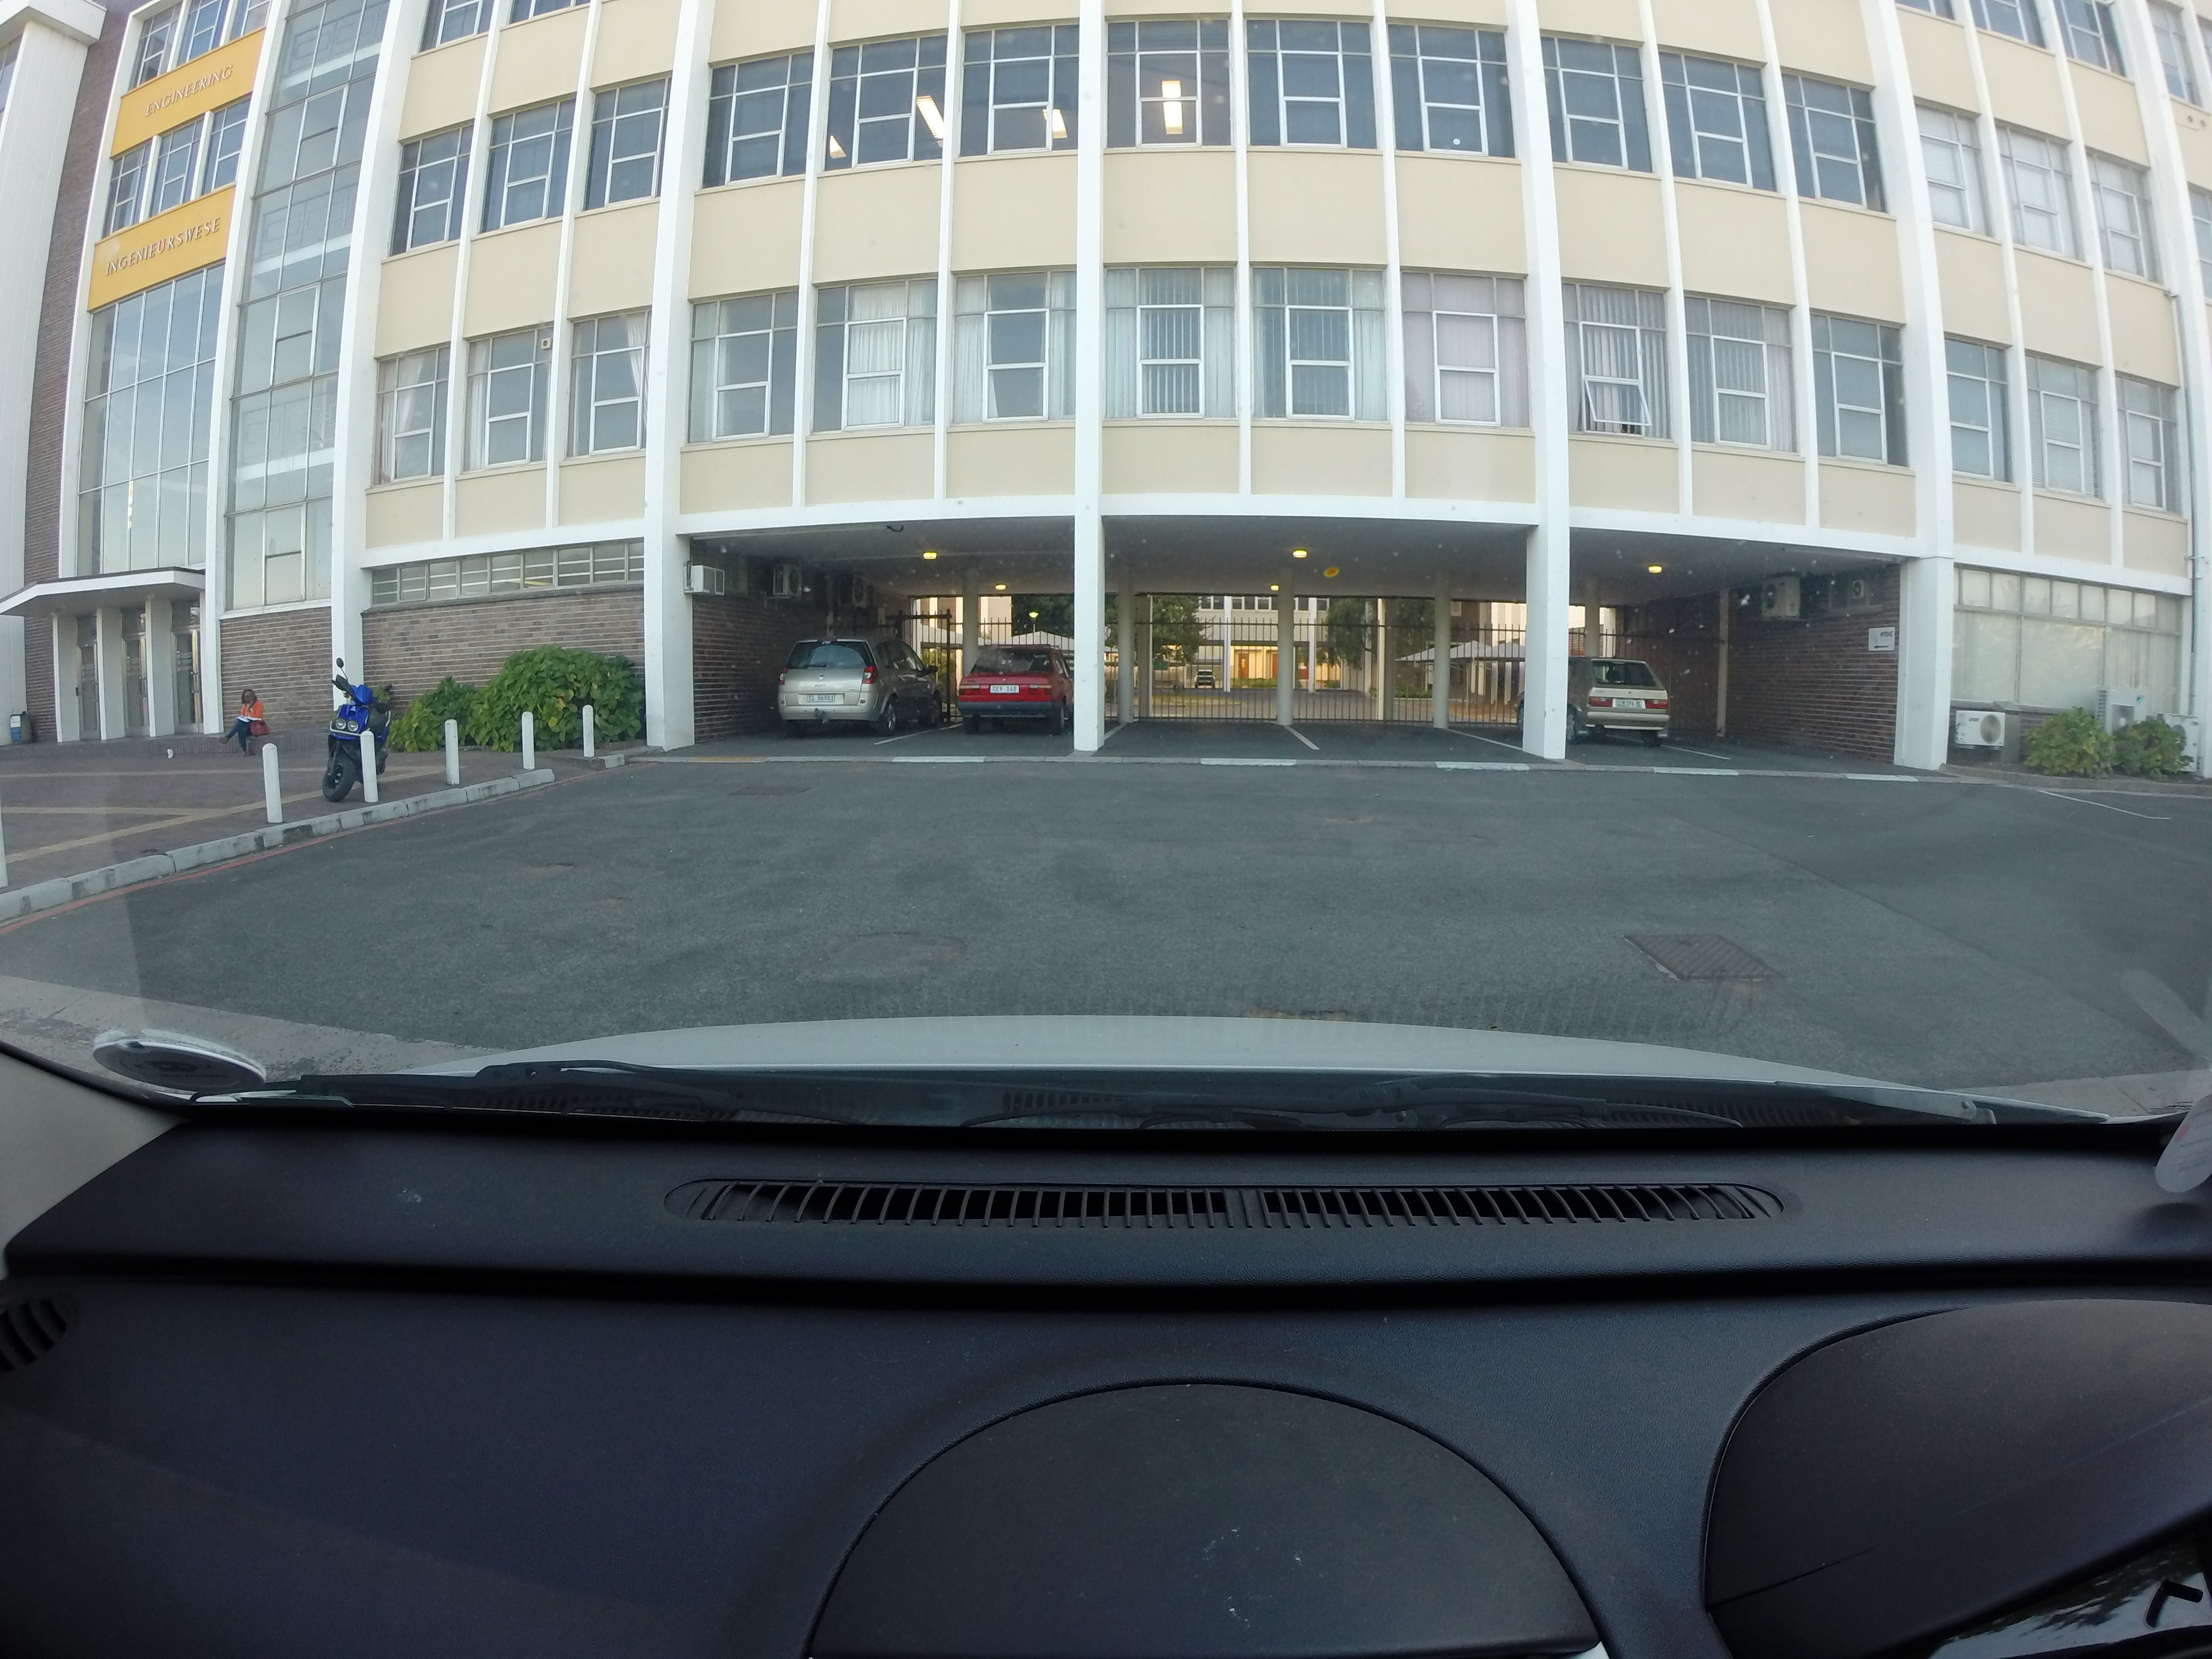pothole: (1258, 1002, 1385, 1014), (523, 856, 589, 868)
